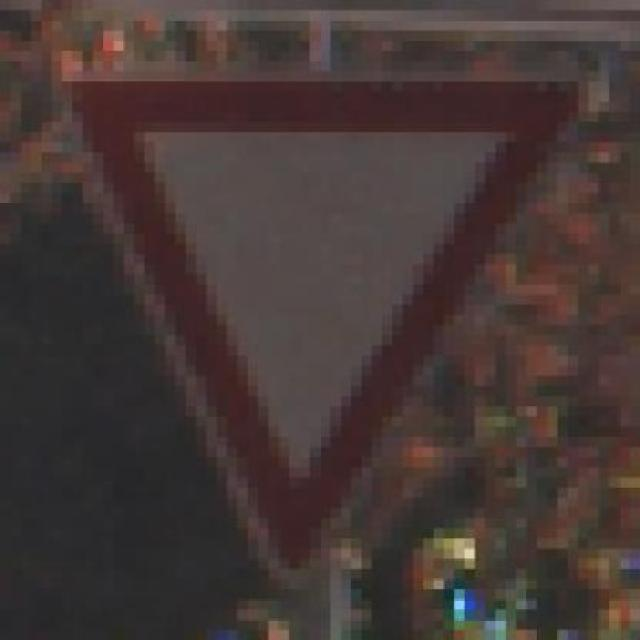Give Way: (51, 61, 609, 579)
